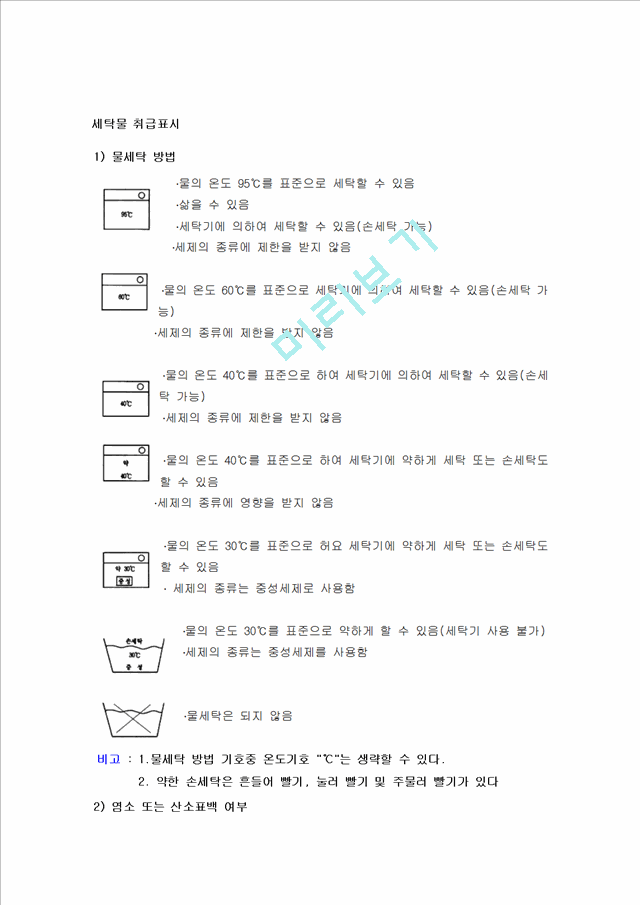do_not_wash: (101, 698, 166, 742)
